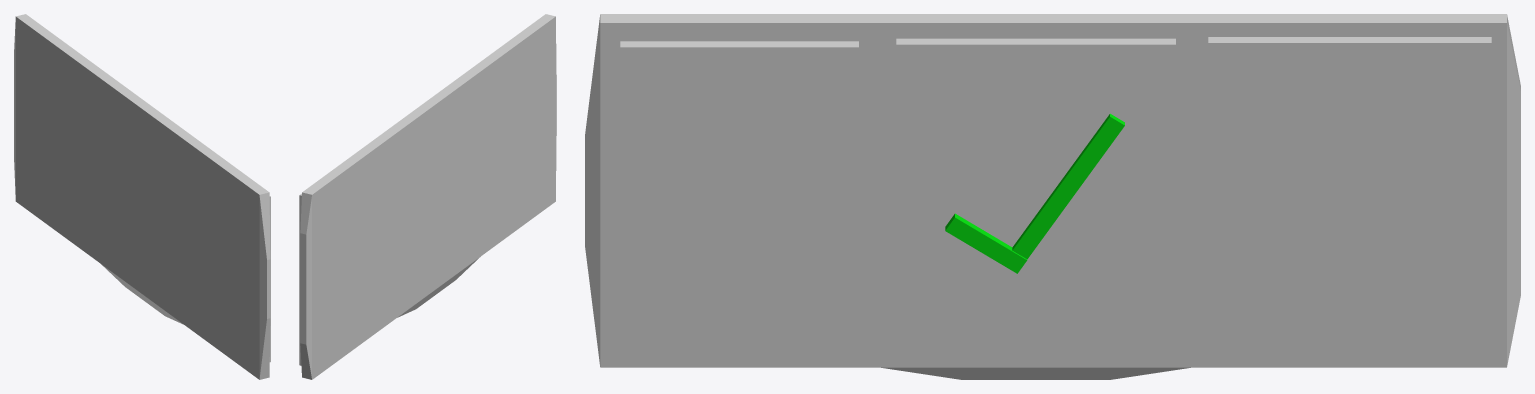
File: check_sign.fbx
3 views of the same model, side by side, from view 1: azimuth 30°, elevation 25°; view 2: azimuth 150°, elevation 25°; view 3: azimuth 270°, elevation 25° (orthographic). The views are drawn at different scales.
Visible parts, largest first — view 1: SPEECH BUBBLE; view 2: SPEECH BUBBLE; view 3: SPEECH BUBBLE.003, SPEECH BUBBLE.002, SPEECH BUBBLE, SPEECH BUBBLE.001, Cube.001.
Part boxes in pixels (box(x1,y1,x2,y2)): SPEECH BUBBLE: box(14, 14, 270, 379); SPEECH BUBBLE: box(299, 14, 556, 379); SPEECH BUBBLE.003: box(1208, 43, 1491, 359); SPEECH BUBBLE.002: box(896, 44, 1175, 357); SPEECH BUBBLE: box(585, 14, 1520, 379); SPEECH BUBBLE.001: box(620, 47, 858, 355); Cube.001: box(945, 113, 1124, 273).
Size of the model in its own units: 24.06 by 209 by 493.
